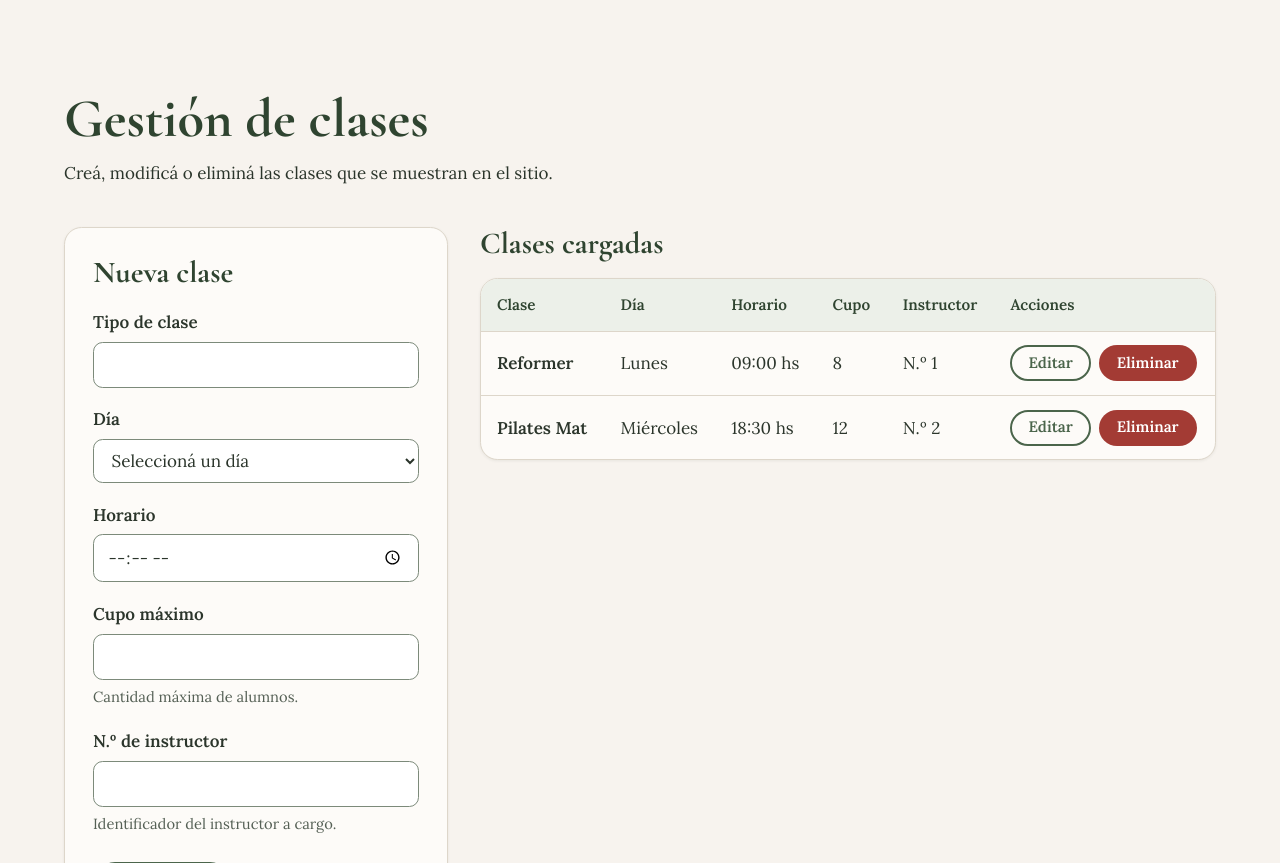
Test: AdminClasesPage › notifica el error si la eliminación falla y mantiene el registro
Expected: the table is shown, [481, 279, 1215, 459]
Click the button with aria-label "Eliminar Reformer".
click(1148, 363)  # box [1099, 345, 1197, 381]
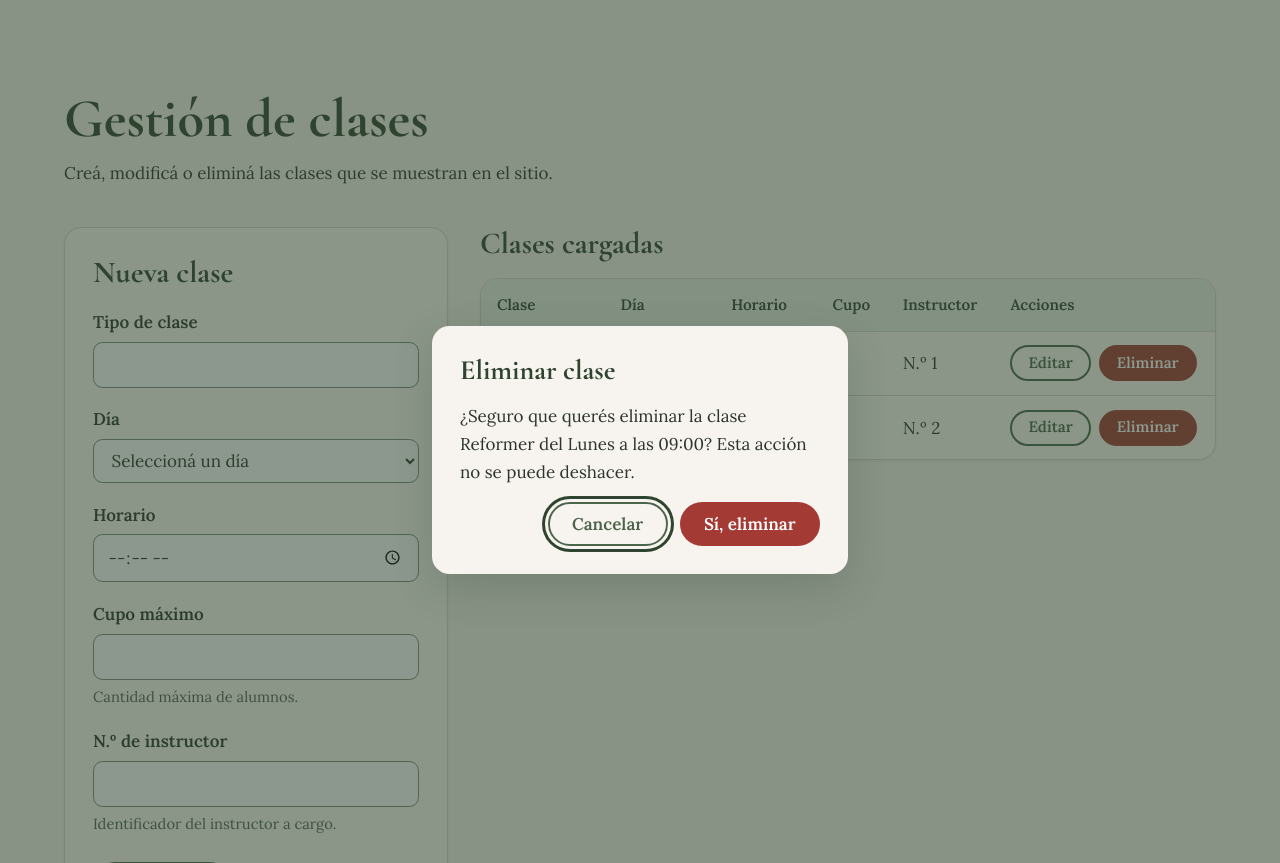
Click the button "Sí, eliminar".
click(750, 524)  # box [680, 502, 820, 546]
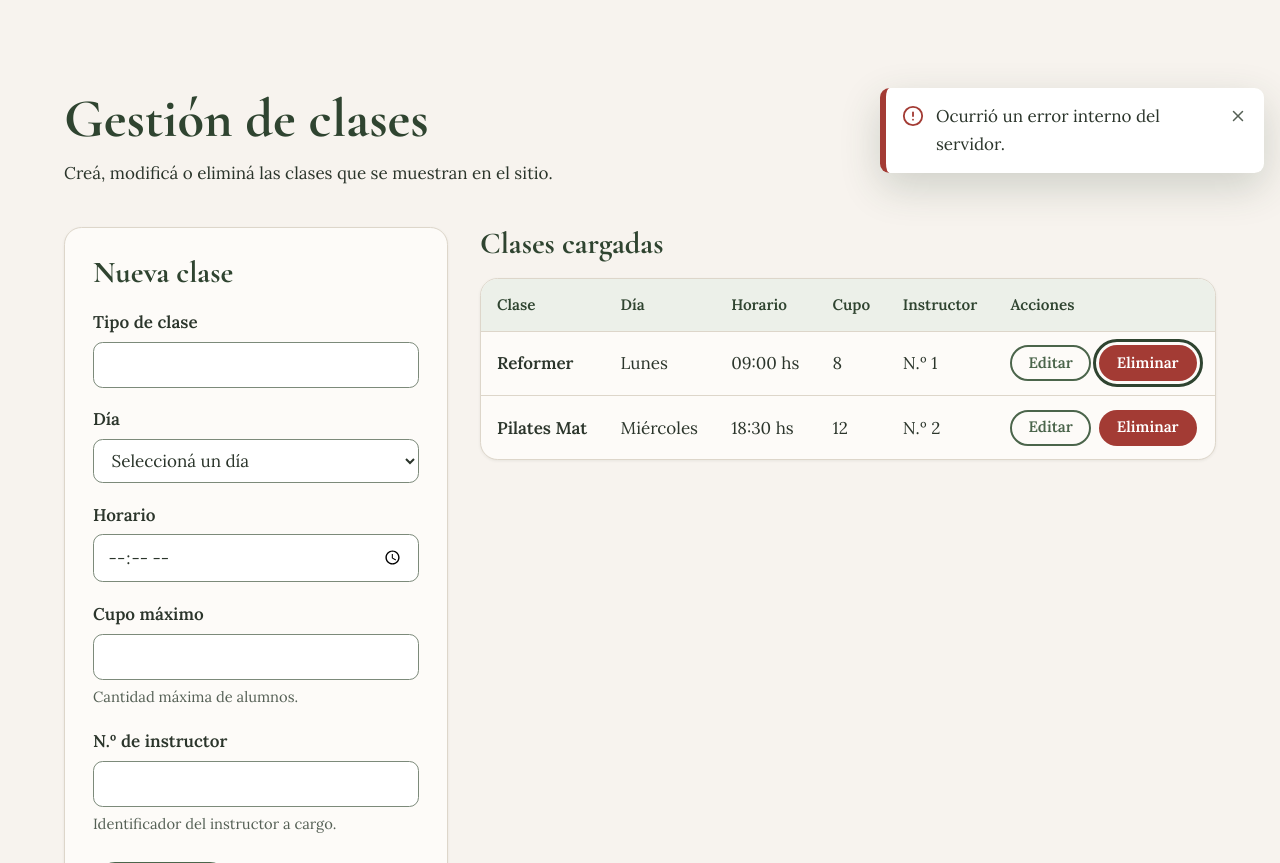
Expected: the column heading "Reformer" is shown, [481, 332, 604, 396]
Now the message reads "Ocurrió un error interno del servidor.", box [936, 105, 1160, 155]
